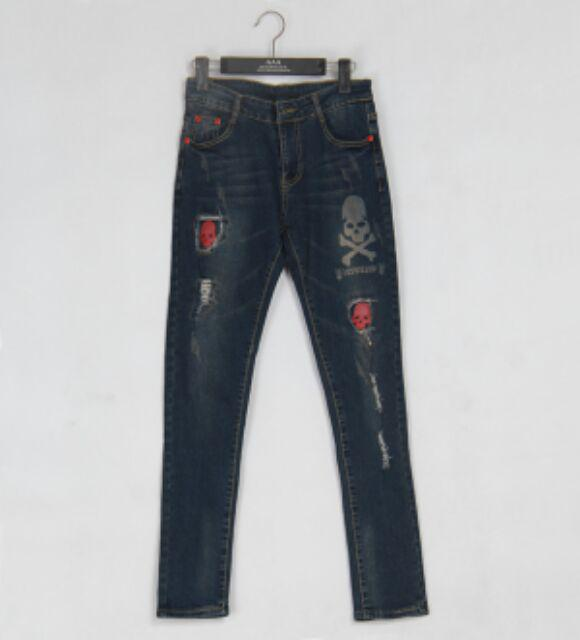Pants_Leggings: (157, 74, 431, 622)
